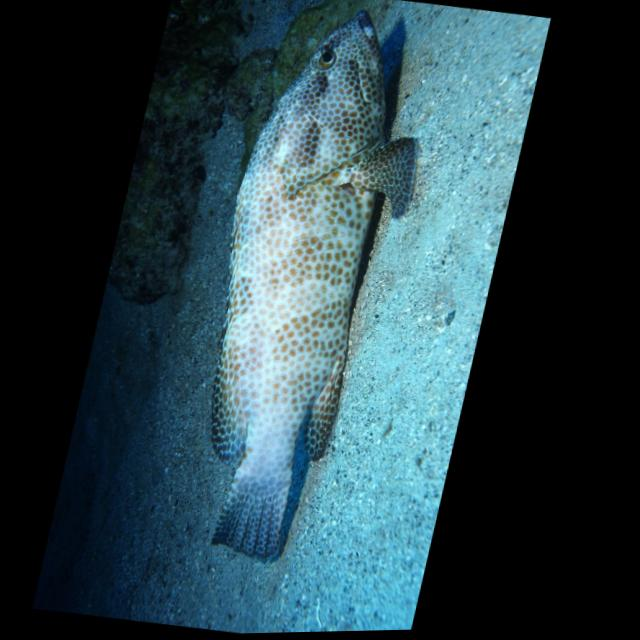Groupers: (153, 2, 454, 573)
